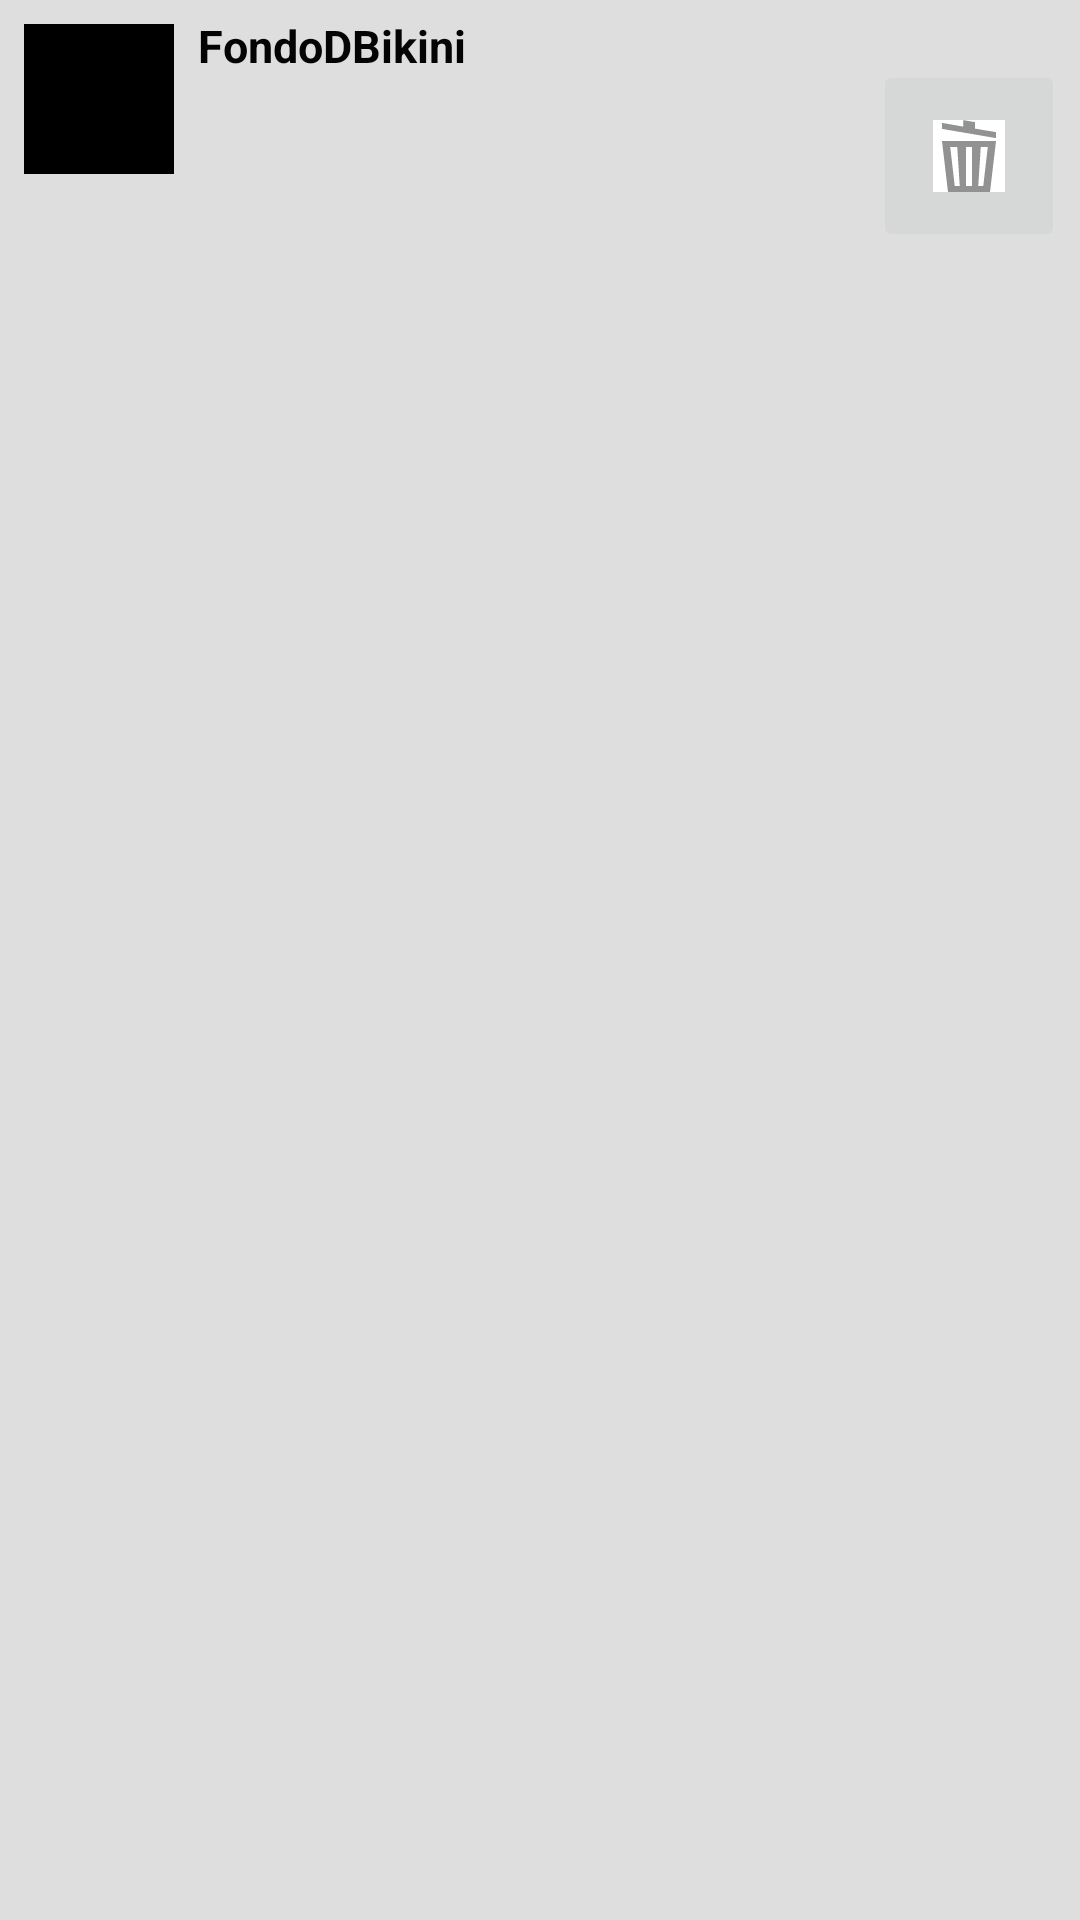

Screen size 1080×1920. Icon name, then its center in pixels as [x,y]:
tacho: [969,156]
